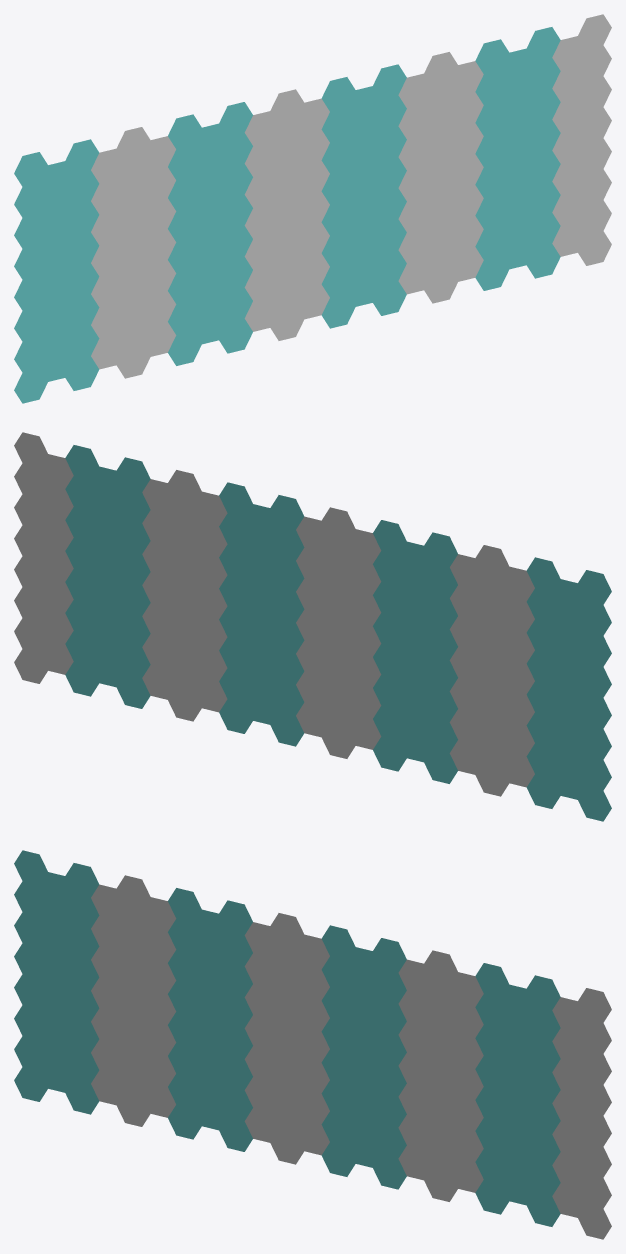
Rendered from Shield Flat.fbx.
3 renders of one model, top to bottom at view 1: azimuth 30°, elevation 25°; view 2: azimuth 150°, elevation 25°; view 3: azimuth 330°, elevation 25°, orthographic.
Parts seen in each view (by area): view 1: Circle; view 2: Circle; view 3: Circle.
Boxes of the visible parts, x1,y1,x2,y2 form: Circle: (14, 14, 611, 403); Circle: (14, 432, 611, 821); Circle: (14, 850, 611, 1239).
Size of the model in its own units: 501 by 198 by 3.21e-05.
